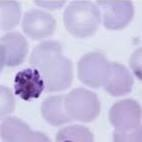Infected: (13, 66, 45, 101)
Uninfected: (64, 0, 101, 37), (77, 51, 112, 89), (65, 87, 101, 123), (43, 55, 74, 92), (41, 94, 75, 127), (109, 98, 142, 131), (98, 0, 134, 30), (22, 9, 56, 40), (104, 61, 133, 97), (0, 32, 29, 67), (33, 41, 61, 71), (0, 116, 32, 142), (0, 0, 21, 29)
